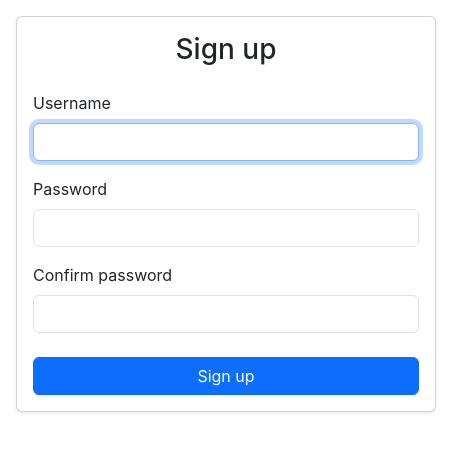
Scenario: SignupPage › shows validation error when passwords do not match
In the field labelled "Username": coordinates (226, 142) [33,123,419,161], type "felipe"
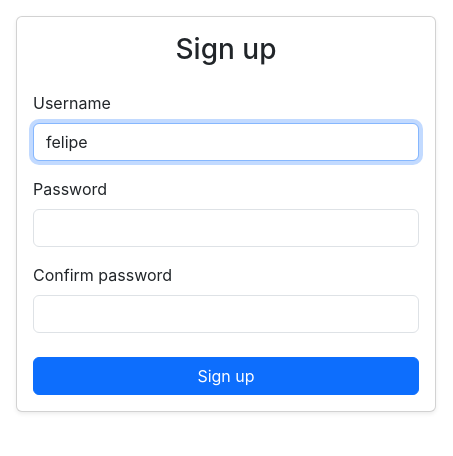
In the password field labelled "Password": coordinates (226, 228) [33,209,419,247], type "123456"
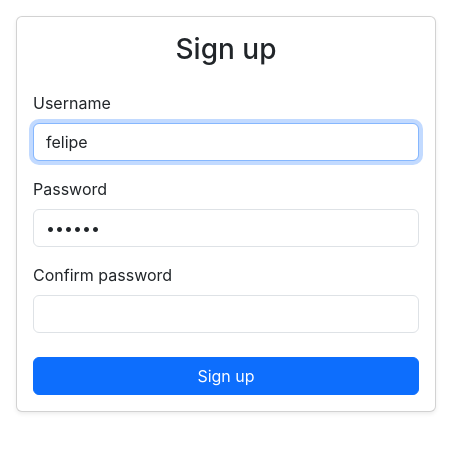
In the password field labelled "Confirm password": coordinates (226, 314) [33,295,419,333], type "654321"
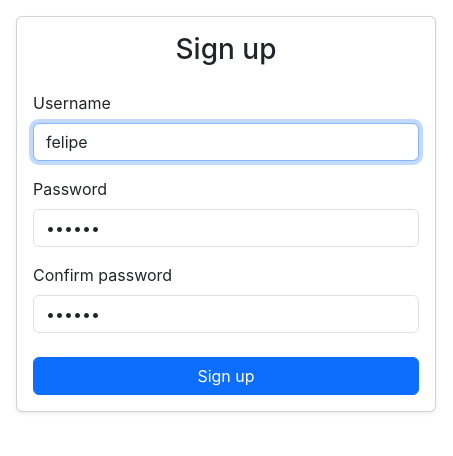
Click the button "Sign up": coordinates (226, 376) [33,357,419,395]
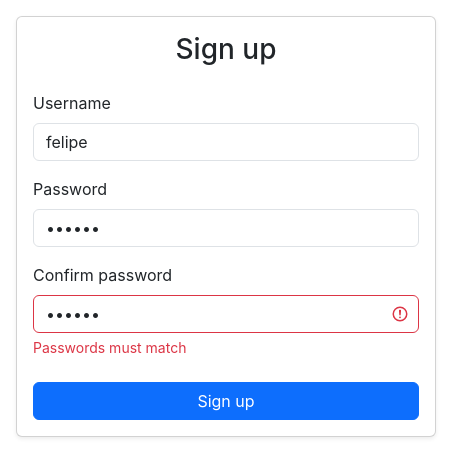
Check: the text "Passwords must match" is shown, box [33,339,186,356]
